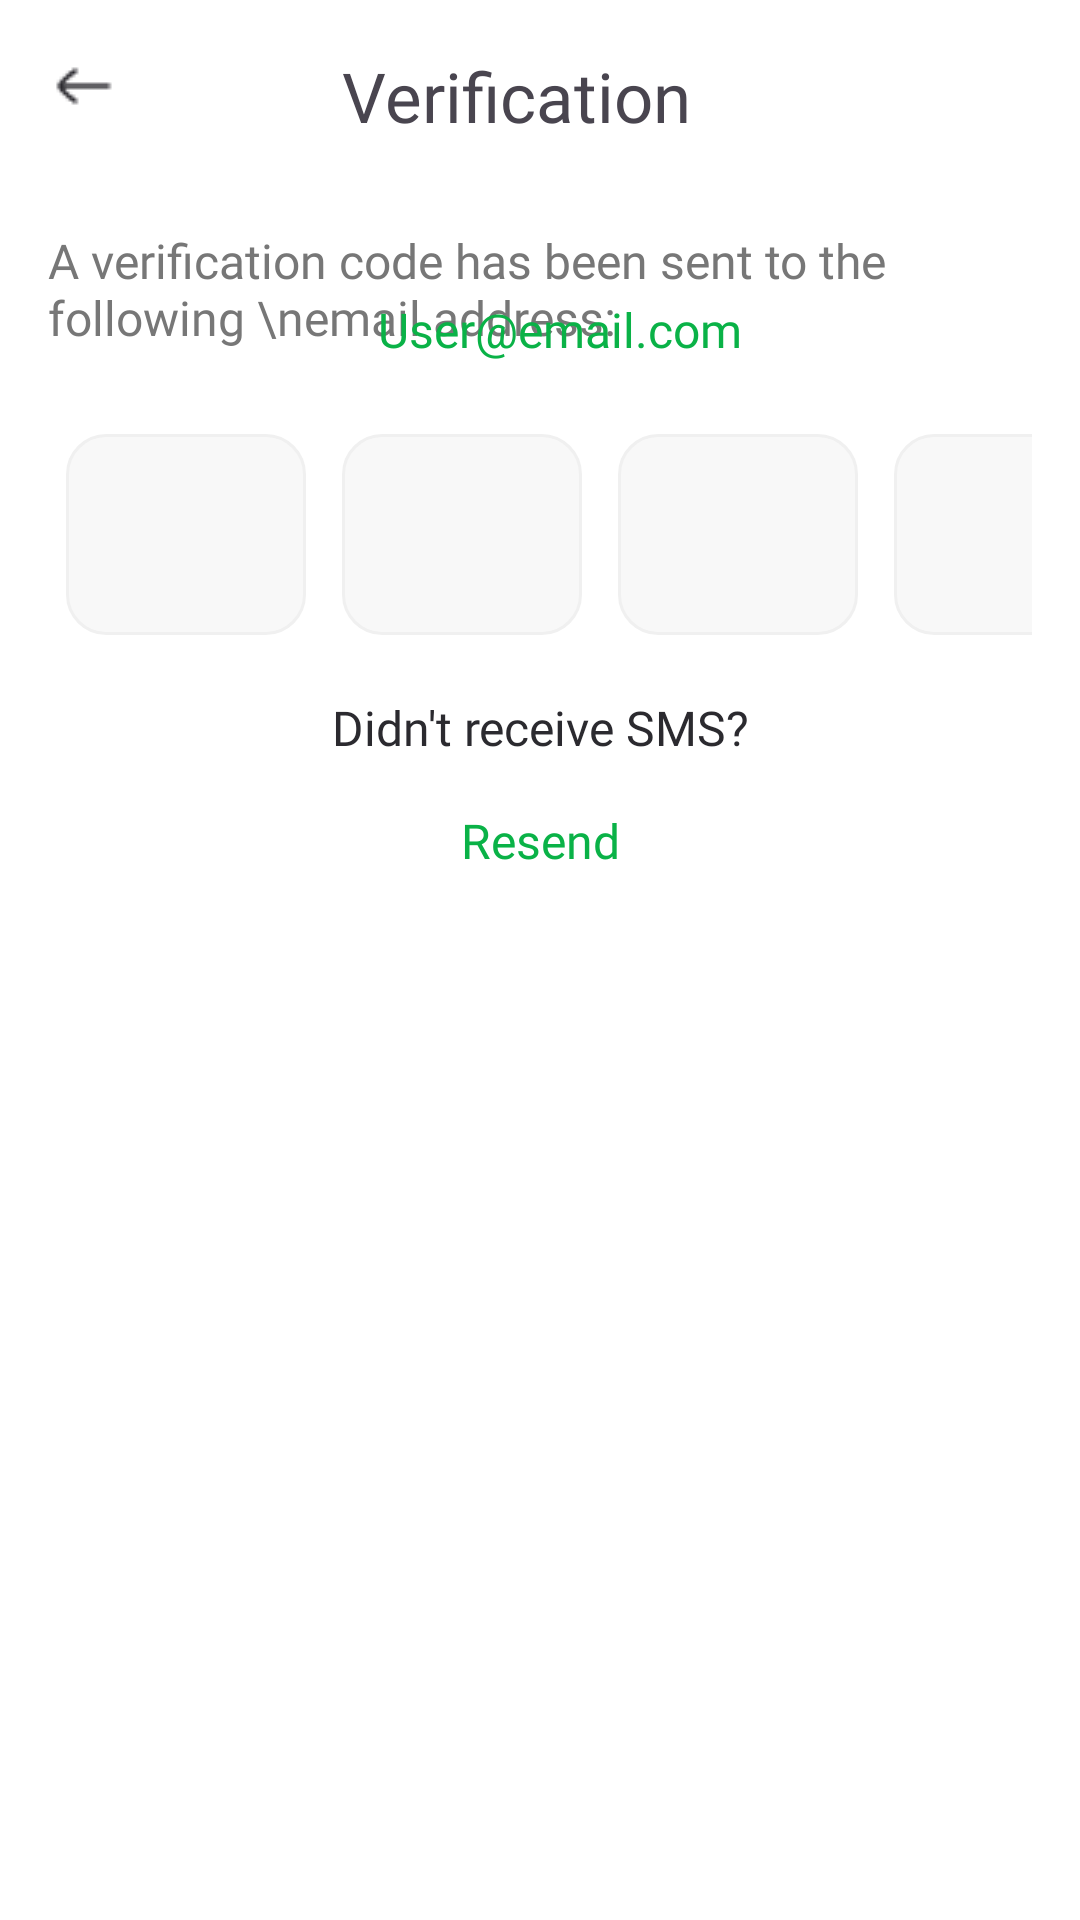

Screen size 1080px x 1920px. Icon name, then its box in pixels as (x1, y1, x2, y2):
arrow left: (56, 67, 112, 105)
